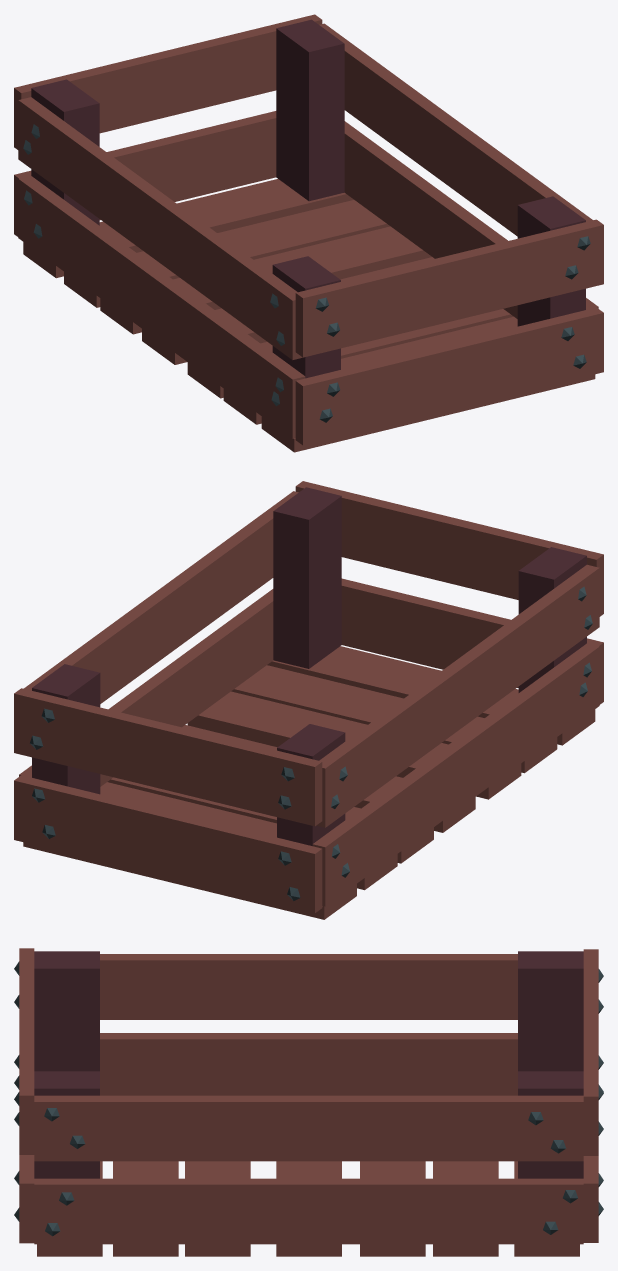
The model's file is Box_opentop.fbx.
The picture shows the model from 3 angles, top to bottom: view 1: azimuth 30°, elevation 25°; view 2: azimuth 150°, elevation 25°; view 3: azimuth 270°, elevation 25°; orthographic projection.
Visible parts, largest first — view 1: Cube.012, Cone; view 2: Cube.012, Cone; view 3: Cube.012, Cone.
Part boxes in pixels (x1,y1,x2,y2): Cube.012: (14,14,603,452); Cone: (23,124,590,422); Cube.012: (14,481,603,919); Cone: (30,586,592,900); Cube.012: (19,948,598,1256); Cone: (14,961,603,1236).
Size of the model in its own units: 66.46 by 32.69 by 107.
